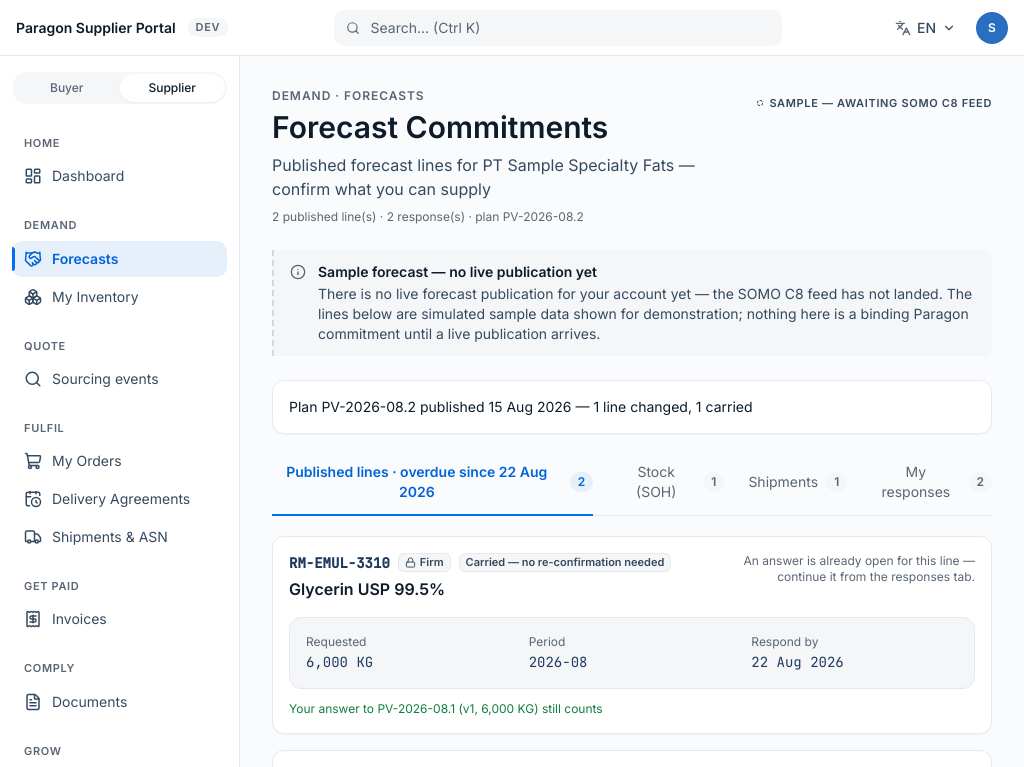
Test: a to-paragon leg — ship and arrive defer to the ASN, cancel does not › ⚠️ SHIP defers with its OWN reason, and CANCEL is a live control on the same leg
Click the tab "Shipments 1".
click(798, 483)  # box [748,460,847,506]
(page scrolled)
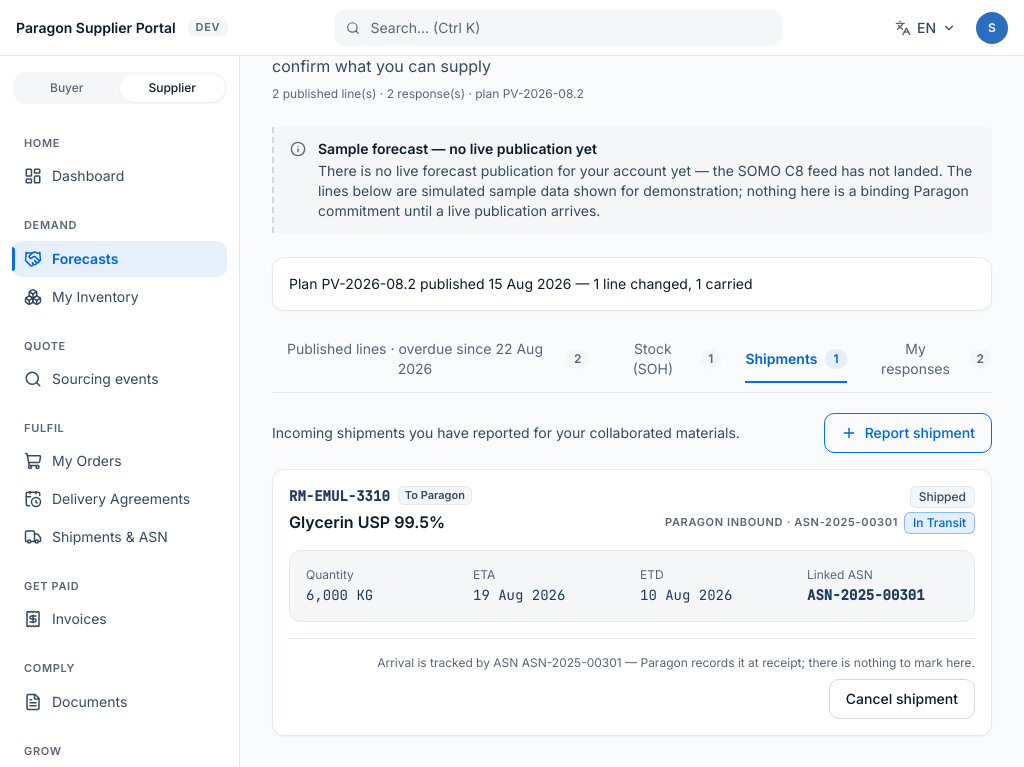
Now the text with test id "ship-advance-via-asn-arrive" shows "ASN-2025-00301", box [377,655,975,670]
Now the button "Cancel shipment" is shown, box [829,679,975,719]
